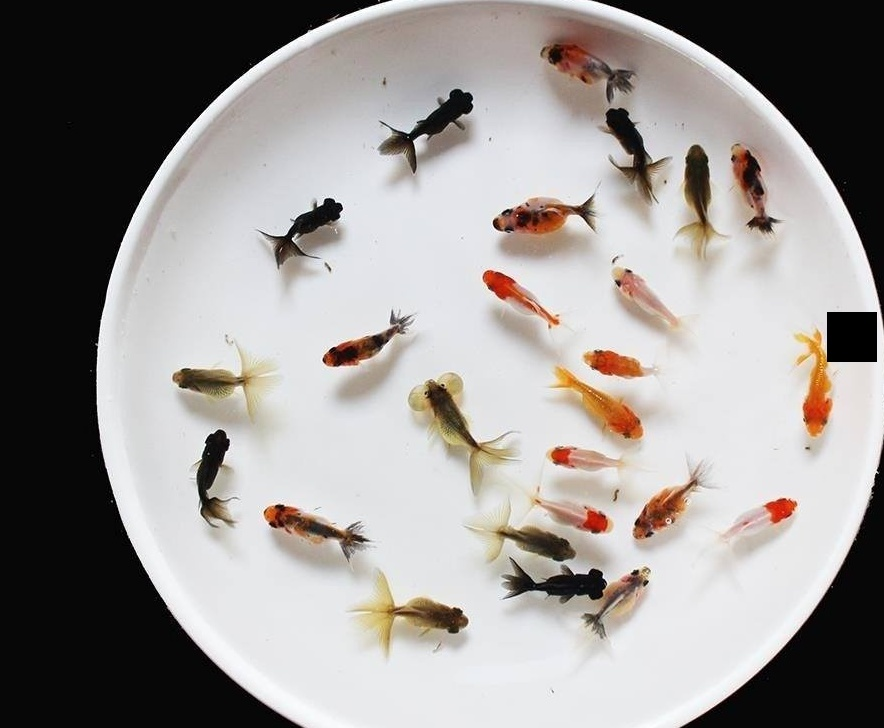fry: (342, 65, 487, 173), (396, 362, 510, 465), (173, 415, 259, 551), (782, 317, 856, 454), (253, 488, 390, 560), (517, 35, 654, 106), (720, 128, 801, 243), (615, 457, 717, 543), (465, 257, 573, 338), (264, 188, 365, 273), (592, 101, 679, 199), (304, 307, 418, 381), (146, 338, 270, 404), (342, 584, 473, 645), (479, 187, 609, 245), (678, 123, 728, 268), (550, 378, 660, 440), (603, 259, 692, 334), (718, 473, 806, 542), (520, 485, 625, 538), (598, 556, 664, 631), (500, 562, 612, 606), (579, 340, 675, 387), (484, 521, 576, 568), (542, 437, 623, 476)
